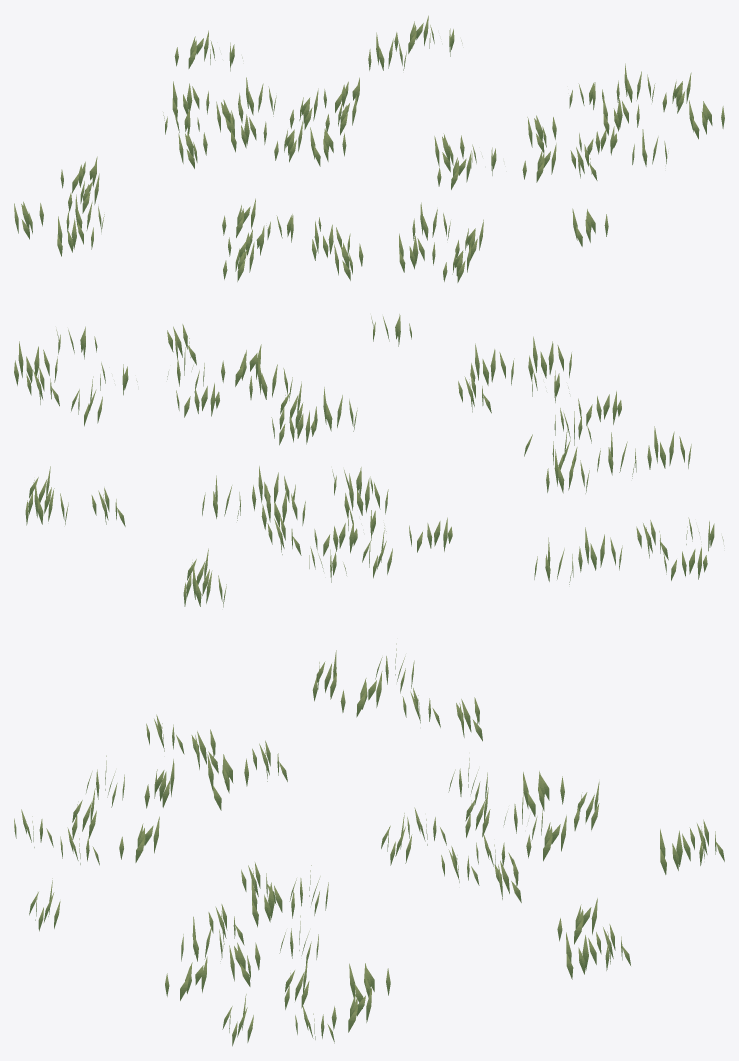
Rendered from plants_un_main_grass_set11_02.gltf.
3 views of the same model, one above another, from view 1: azimuth 30°, elevation 25°; view 2: azimuth 150°, elevation 25°; view 3: azimuth 270°, elevation 25° (orthographic). The views are drawn at different scales.
Visible parts, largest first — view 1: plants_un_main_grass_set11_02_mesh_shape:plants_un_main_gras; view 2: plants_un_main_grass_set11_02_mesh_shape:plants_un_main_gras; view 3: plants_un_main_grass_set11_02_mesh_shape:plants_un_main_gras.
Part boxes in pixels (x1,y1,x2,y2): plants_un_main_grass_set11_02_mesh_shape:plants_un_main_gras: [14, 15, 724, 282]; plants_un_main_grass_set11_02_mesh_shape:plants_un_main_gras: [14, 314, 723, 607]; plants_un_main_grass_set11_02_mesh_shape:plants_un_main_gras: [14, 643, 724, 1046].
Size of what is drawn, in the model's own units: 9.09 by 0.4615 by 7.36.
1 material, 1 textured.
